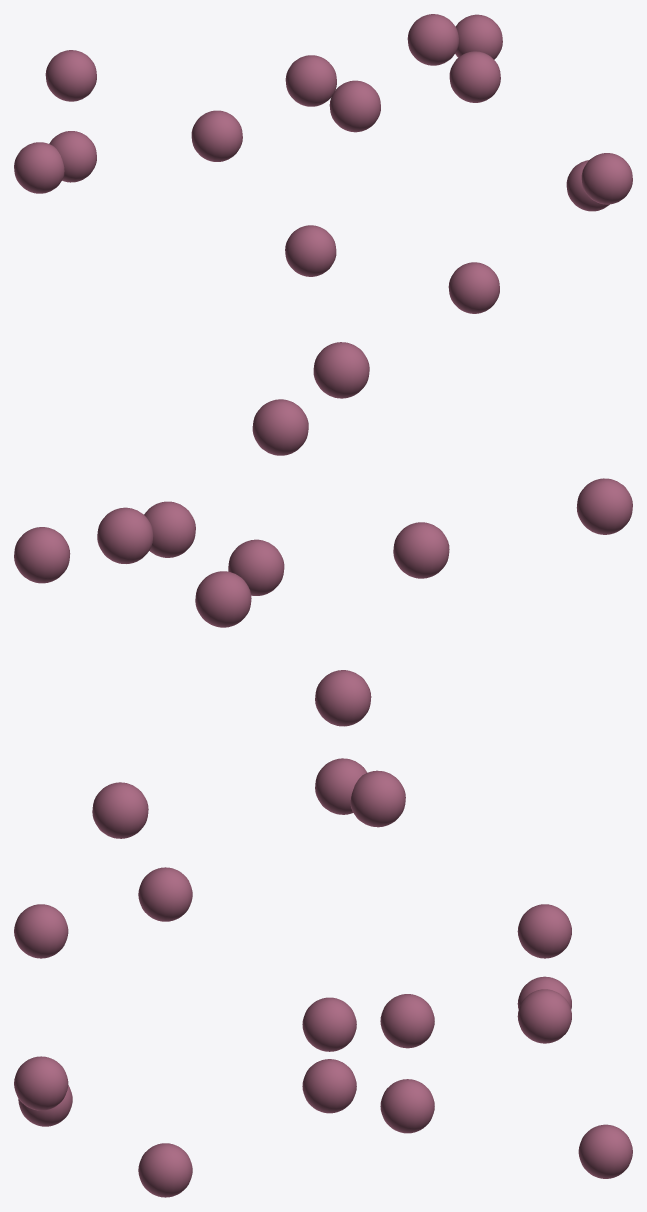
The model's file is himilayanSalt.obj.
3 renders of one model, top to bottom at view 1: azimuth 30°, elevation 25°; view 2: azimuth 150°, elevation 25°; view 3: azimuth 270°, elevation 25°, orthographic. The views are drawn at different scales.
Parts seen in each view (by area): view 1: pSphere12, pSphere5, pSphere1, pSphere11, pSphere7, pSphere2, pSphere10, pSphere9, pSphere6, pSphere13, pSphere14, pSphere3 (+1 smaller); view 2: pSphere9, pSphere2, pSphere1, pSphere10, pSphere3, pSphere12, pSphere5, pSphere7, pSphere11, pSphere13, pSphere6, pSphere4 (+1 smaller); view 3: pSphere4, pSphere5, pSphere7, pSphere2, pSphere9, pSphere6, pSphere3, pSphere11, pSphere1, pSphere14, pSphere12, pSphere10 (+1 smaller).
Part boxes in pixels (x1=…): pSphere12: x1=45, y1=50, x2=96, y2=101; pSphere5: x1=407, y1=14, x2=458, y2=65; pSphere1: x1=191, y1=110, x2=242, y2=161; pSphere11: x1=285, y1=225, x2=336, y2=276; pSphere7: x1=449, y1=51, x2=500, y2=102; pSphere2: x1=285, y1=55, x2=336, y2=106; pSphere10: x1=448, y1=262, x2=499, y2=313; pSphere9: x1=581, y1=153, x2=632, y2=204; pSphere6: x1=329, y1=80, x2=380, y2=132; pSphere13: x1=14, y1=142, x2=64, y2=193; pSphere14: x1=49, y1=131, x2=96, y2=182; pSphere3: x1=455, y1=14, x2=502, y2=59; pSphere9: x1=252, y1=399, x2=308, y2=455; pSphere2: x1=195, y1=571, x2=251, y2=627; pSphere1: x1=92, y1=782, x2=148, y2=838; pSphere10: x1=393, y1=522, x2=449, y2=578; pSphere3: x1=14, y1=527, x2=70, y2=583; pSphere12: x1=315, y1=670, x2=371, y2=726; pSphere5: x1=313, y1=342, x2=369, y2=398; pSphere7: x1=97, y1=507, x2=153, y2=563; pSphere11: x1=576, y1=478, x2=632, y2=534; pSphere13: x1=350, y1=770, x2=405, y2=827; pSphere6: x1=228, y1=539, x2=284, y2=595; pSphere4: x1=144, y1=501, x2=195, y2=557; pSphere4: x1=138, y1=1143, x2=192, y2=1197; pSphere5: x1=138, y1=867, x2=192, y2=921; pSphere7: x1=302, y1=1059, x2=356, y2=1113; pSphere2: x1=380, y1=994, x2=434, y2=1048; pSphere9: x1=14, y1=1056, x2=68, y2=1110; pSphere6: x1=302, y1=997, x2=356, y2=1051; pSphere3: x1=380, y1=1079, x2=434, y2=1133; pSphere11: x1=14, y1=904, x2=68, y2=958; pSphere1: x1=578, y1=1124, x2=632, y2=1178; pSphere14: x1=517, y1=989, x2=571, y2=1043; pSphere12: x1=517, y1=904, x2=571, y2=958; pSphere10: x1=18, y1=1085, x2=72, y2=1126.
Size of the model in its own units: 7.34 by 4.96 by 8.97.
